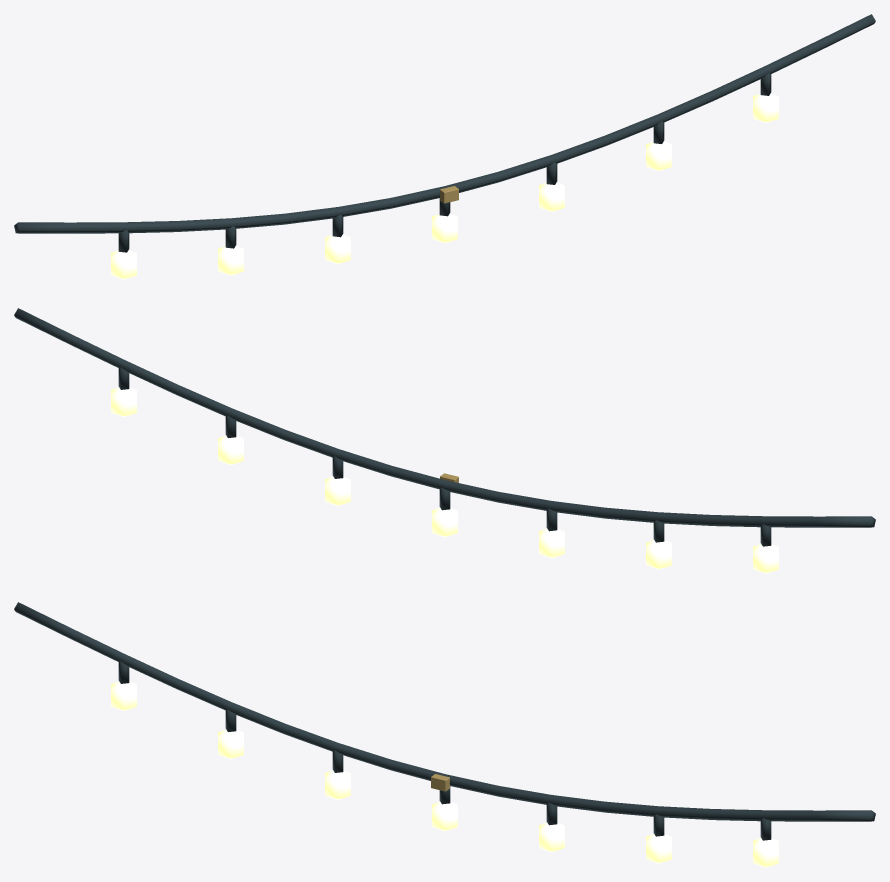
Rendered from lights_string_low.glb.
The picture shows the model from 3 angles, top to bottom: view 1: azimuth 30°, elevation 25°; view 2: azimuth 150°, elevation 25°; view 3: azimuth 330°, elevation 25°; orthographic projection.
Bounding box in the file's own units: 1.98 × 0.2767 × 0.0532.
